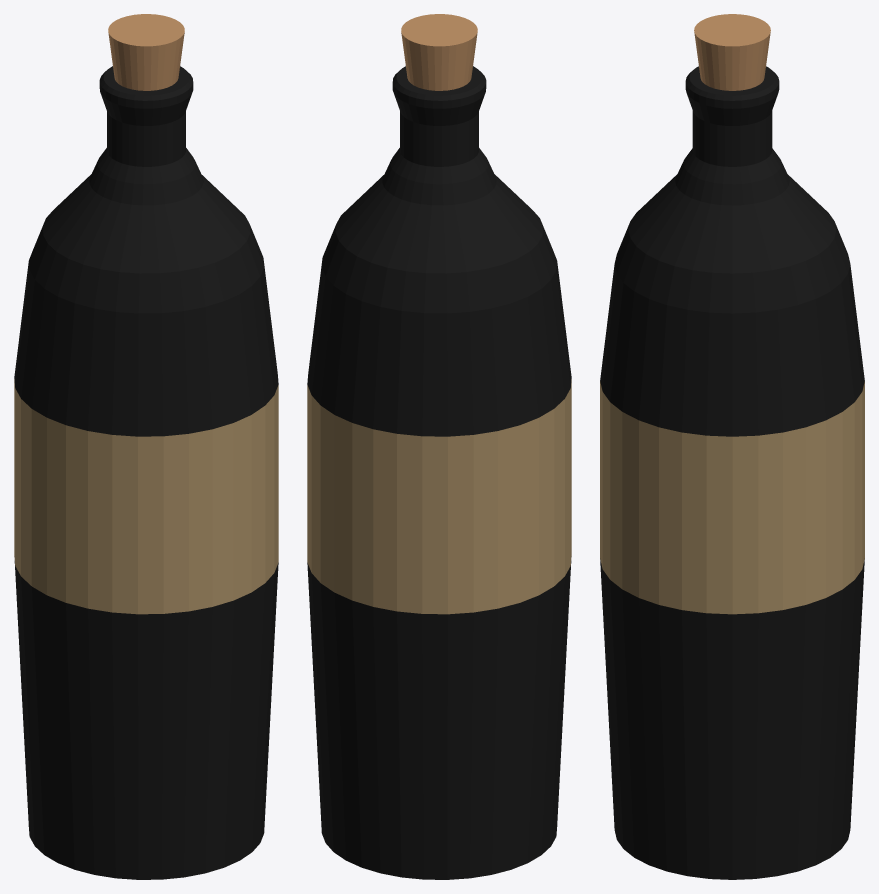
Rendered from WineBottle2_Grey.fbx.
3 views of the same model, side by side, from view 1: azimuth 30°, elevation 25°; view 2: azimuth 150°, elevation 25°; view 3: azimuth 270°, elevation 25° (orthographic).
Visible parts, largest first — view 1: WineBottle V2 Grey; view 2: WineBottle V2 Grey; view 3: WineBottle V2 Grey.
Boxes of the visible parts, left/top/right/bottom form: WineBottle V2 Grey: left=14, top=14, right=278, bottom=879; WineBottle V2 Grey: left=307, top=14, right=571, bottom=879; WineBottle V2 Grey: left=600, top=14, right=864, bottom=879.
Size of the model in its own units: 7.5 by 25 by 7.5.
